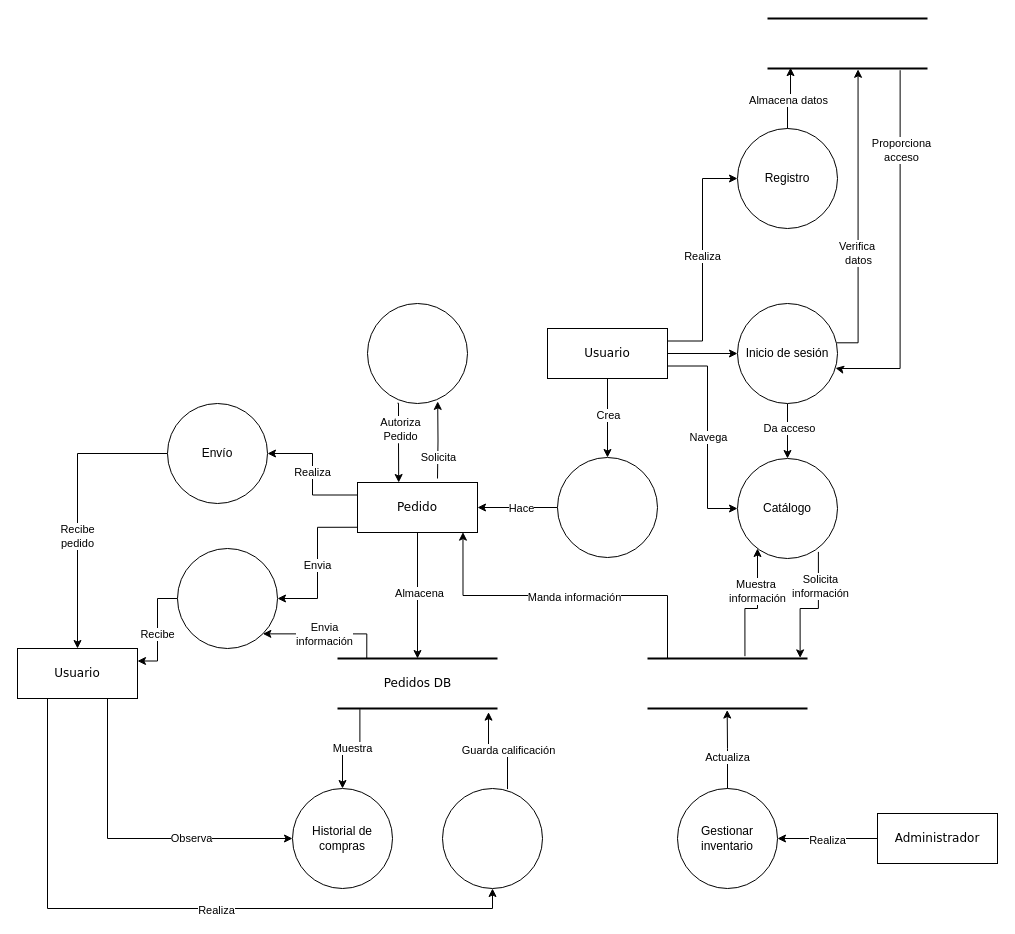
The diagram is 1015 pixels wide and 934 high, and some of its shapes have lost their labels. The box of each missing label's shape, as (x1, y1, x2, y2) in pixels:
Calificar producto: (442, 788, 542, 888)
Carrito de compra: (556, 456, 658, 558)
Notificaciones: (176, 548, 278, 648)
Pagar: (366, 302, 468, 404)
Productos DB: (646, 657, 808, 709)
Usuario DB: (766, 17, 928, 69)
